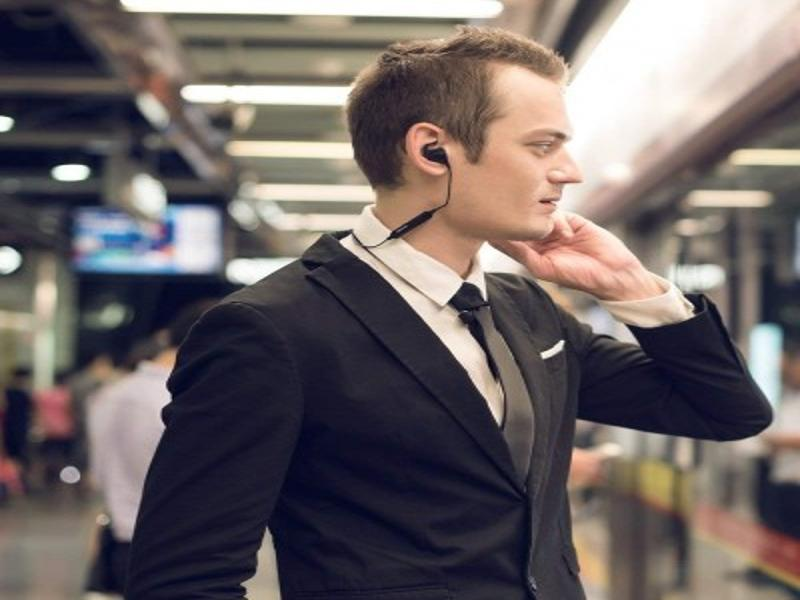headphone: (427, 143, 454, 169)
